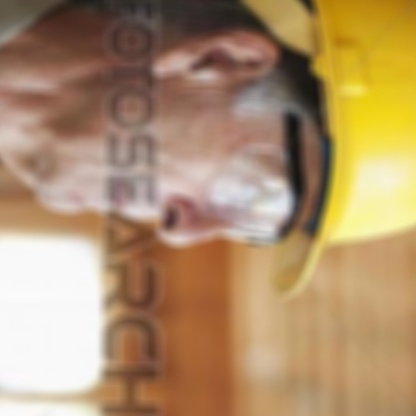yellow: (266, 0, 416, 326)
